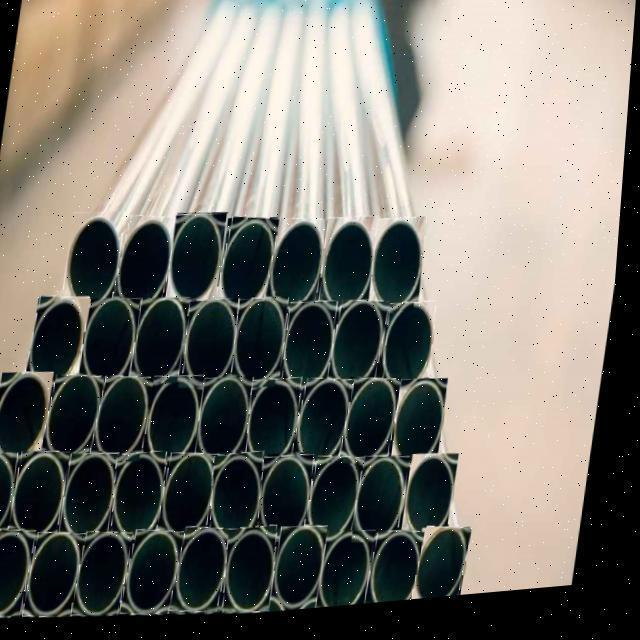pipe: (115, 218, 183, 314), (218, 221, 284, 319), (268, 223, 333, 316), (66, 213, 128, 310), (30, 297, 95, 388), (169, 218, 230, 313), (46, 376, 111, 463), (96, 378, 161, 465), (14, 452, 77, 541), (82, 301, 145, 389), (163, 456, 226, 543), (298, 384, 360, 471), (129, 533, 192, 618), (324, 223, 382, 315), (332, 307, 394, 393), (346, 385, 408, 471), (311, 462, 372, 549), (32, 533, 94, 618), (179, 531, 241, 616), (374, 224, 429, 319), (149, 379, 209, 466), (0, 373, 59, 461), (135, 301, 195, 387), (81, 533, 141, 618), (187, 303, 243, 393), (201, 382, 259, 468), (359, 463, 417, 549), (237, 303, 293, 392), (66, 455, 126, 538), (278, 532, 336, 617), (252, 384, 308, 472), (398, 387, 454, 475), (409, 462, 466, 548), (265, 460, 321, 547), (119, 455, 172, 543), (288, 307, 342, 393), (233, 531, 286, 618), (218, 456, 270, 544), (389, 309, 441, 396), (326, 537, 384, 615), (374, 539, 434, 611), (422, 535, 480, 608), (0, 530, 44, 616), (0, 453, 25, 538)
